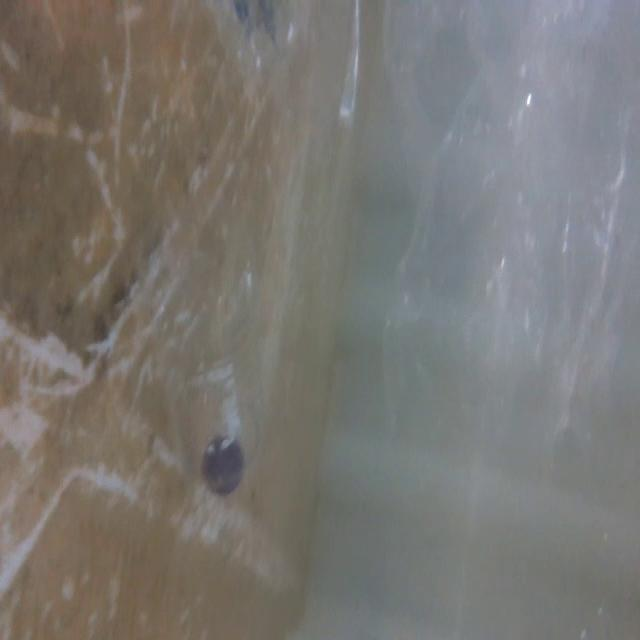plastic bags: (376, 0, 639, 512), (203, 0, 378, 108)
plastic bottle: (128, 204, 280, 488)
